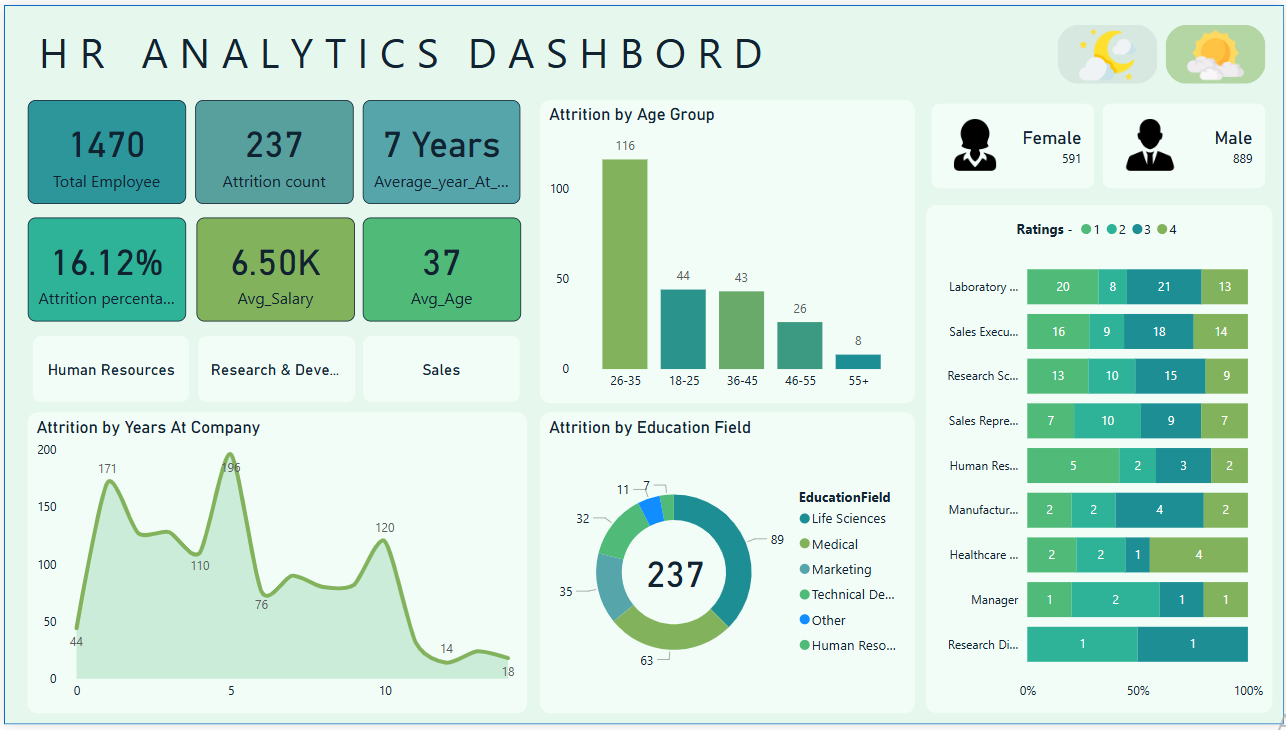

What the dashboard file says about the page in this screenshot:
{"tool":"powerbi","page":{"name":"Dashboard","canvas":[1280,720],"ordinal":0},"visuals":[{"type":"shape","box":[0,0,1280.3,719.5],"z":0},{"type":"shape","box":[464,14.8,303.9,61.9],"z":0,"group":"g1"},{"type":"shape","box":[35,14.8,84.7,61.9],"z":1000,"group":"g1"},{"type":"card","fields":{"Values":["HR_Analytics.Total Employee"]},"box":[23.3,95.1,158,104.3],"z":1000},{"type":"shape","box":[137.9,14.8,308,61.9],"z":2000,"group":"g1"},{"type":"card","fields":{"Values":["HR_Analytics.Attrition count"]},"box":[190.7,95.1,158,104.3],"z":2000},{"type":"card","fields":{"Values":["HR_Analytics.Average_year_At_Company"]},"box":[358.1,95.1,157.8,104.3],"z":3000},{"type":"card","fields":{"Values":["HR_Analytics.Attrition percentage"]},"box":[23.3,213.1,158,104],"z":4000},{"type":"card","fields":{"Values":["HR_Analytics.Avg_Salary"]},"box":[192.1,213,158,104.3],"z":5000},{"type":"card","fields":{"Values":["HR_Analytics.Avg_Age"]},"box":[358.1,213.1,158,104],"z":6000},{"type":"areaChart","title":"Attrition by Years At Company","fields":{"Category":["HR_Analytics.YearsAtCompany"],"Y":["HR_Analytics.Total Employee"]},"box":[23.3,407.5,499.5,300.5],"z":7000},{"type":"donutChart","title":"Attrition by Education Field","fields":{"Category":["HR_Analytics.EducationField"],"Y":["HR_Analytics.Attrition count"]},"box":[536.5,407.5,374.6,300.5],"z":8000},{"type":"hundredPercentStackedBarChart","fields":{"Category":["HR_Analytics.JobRole"],"Series":["HR_Analytics.JobSatisfaction"],"Y":["HR_Analytics.Attrition count"]},"box":[922.5,200.4,345.6,508.3],"z":9000},{"type":"columnChart","title":"Attrition by Age Group","fields":{"Category":["HR_Analytics.AgeGroup"],"Y":["HR_Analytics.Attrition count"]},"box":[536.5,94.7,374.6,303.3],"z":10000},{"type":"advancedSlicerVisual","fields":{"Values":["HR_Analytics.Gender"]},"box":[922.5,94.1,345.6,95.5],"z":11000},{"type":"advancedSlicerVisual","fields":{"Values":["HR_Analytics.Department"]},"box":[23.3,326.6,499.5,76.8],"z":12000},{"type":"card","fields":{"Values":["HR_Analytics.Attrition count"]},"box":[625.7,544.8,90.6,42.5],"z":13000},{"type":"advancedSlicerVisual","fields":{"Values":["Theme colour.Label"]},"box":[1049,14.8,219.2,69.9],"z":14000},{"type":"group","id":"g1","title":"Group 1","box":[35,14.8,732.9,61.9],"z":15000},{"type":"advancedSlicerVisual","fields":{"Values":["Theme colour.Male_Icon"]},"box":[1090.7,107.6,110.3,64.6],"z":16000},{"type":"advancedSlicerVisual","fields":{"Values":["Theme colour.Male_Icon"]},"box":[915.8,107.6,110.3,64.6],"z":17000}]}

Visuals, with their boxes in screenshot pixels (x1, y1, x2, y2), scaled from the page's 1280x720 canvas onto the 1286x730 screenshot:
shape: (x1=0, y1=0, x2=1285, y2=729)
shape: (x1=466, y1=15, x2=771, y2=78)
shape: (x1=35, y1=15, x2=120, y2=78)
card - HR_Analytics.Total Employee: (x1=23, y1=96, x2=182, y2=202)
shape: (x1=139, y1=15, x2=448, y2=78)
card - HR_Analytics.Attrition count: (x1=192, y1=96, x2=350, y2=202)
card - HR_Analytics.Average_year_At_Company: (x1=360, y1=96, x2=518, y2=202)
card - HR_Analytics.Attrition percentage: (x1=23, y1=216, x2=182, y2=322)
card - HR_Analytics.Avg_Salary: (x1=193, y1=216, x2=352, y2=322)
card - HR_Analytics.Avg_Age: (x1=360, y1=216, x2=519, y2=322)
"Attrition by Years At Company" areaChart: (x1=23, y1=413, x2=525, y2=718)
"Attrition by Education Field" donutChart: (x1=539, y1=413, x2=915, y2=718)
hundredPercentStackedBarChart - HR_Analytics.JobRole x HR_Analytics.JobSatisfaction: (x1=927, y1=203, x2=1274, y2=719)
"Attrition by Age Group" columnChart: (x1=539, y1=96, x2=915, y2=404)
advancedSlicerVisual - HR_Analytics.Gender: (x1=927, y1=95, x2=1274, y2=192)
advancedSlicerVisual - HR_Analytics.Department: (x1=23, y1=331, x2=525, y2=409)
card - HR_Analytics.Attrition count: (x1=629, y1=552, x2=720, y2=595)
advancedSlicerVisual - Theme colour.Label: (x1=1054, y1=15, x2=1274, y2=86)
"Group 1" group: (x1=35, y1=15, x2=771, y2=78)
advancedSlicerVisual - Theme colour.Male_Icon: (x1=1096, y1=109, x2=1207, y2=175)
advancedSlicerVisual - Theme colour.Male_Icon: (x1=920, y1=109, x2=1031, y2=175)
